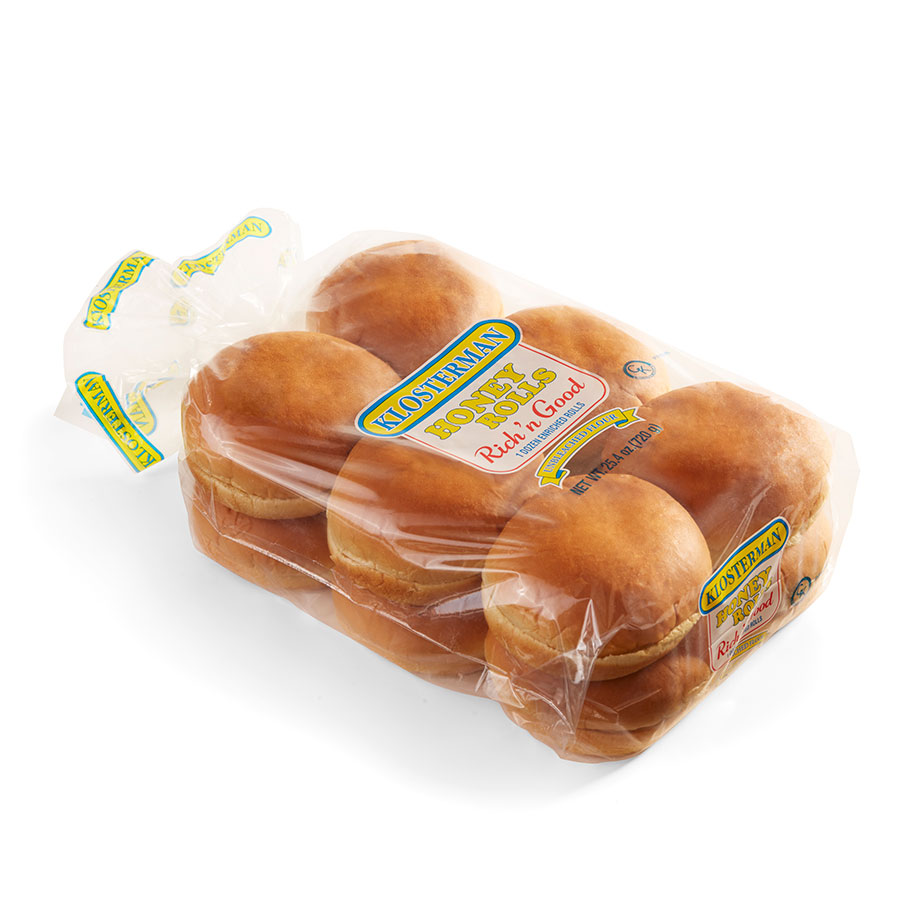hamburger_buns: (164, 238, 856, 757)
